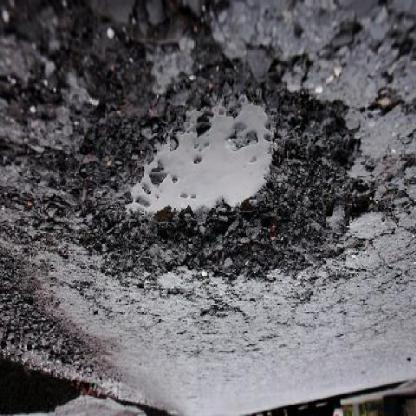pothole: (74, 70, 365, 287)
